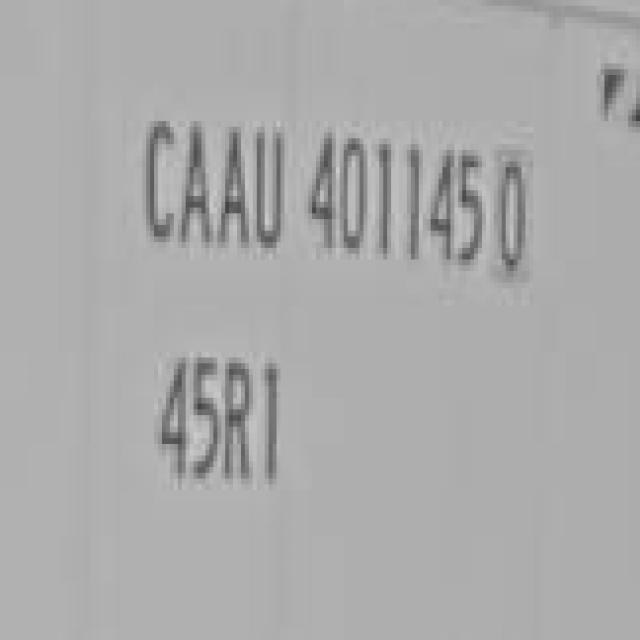dv: (489, 137, 544, 284)
owner: (130, 97, 288, 266)
serial: (304, 116, 483, 284)
size: (149, 336, 298, 498)
